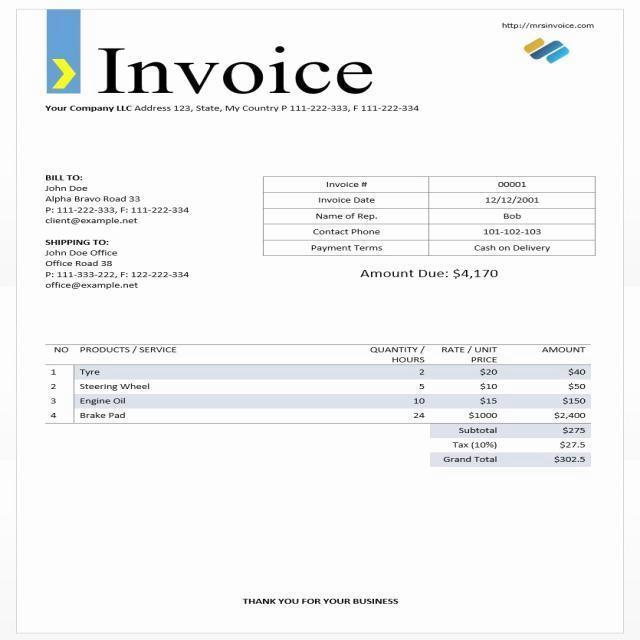paragraph: (94, 41, 377, 97), (40, 235, 195, 296), (40, 168, 195, 227), (42, 101, 426, 117), (438, 426, 593, 465), (355, 261, 503, 287), (236, 593, 404, 613), (493, 15, 601, 34)
table: (40, 343, 592, 423), (286, 176, 575, 257)
